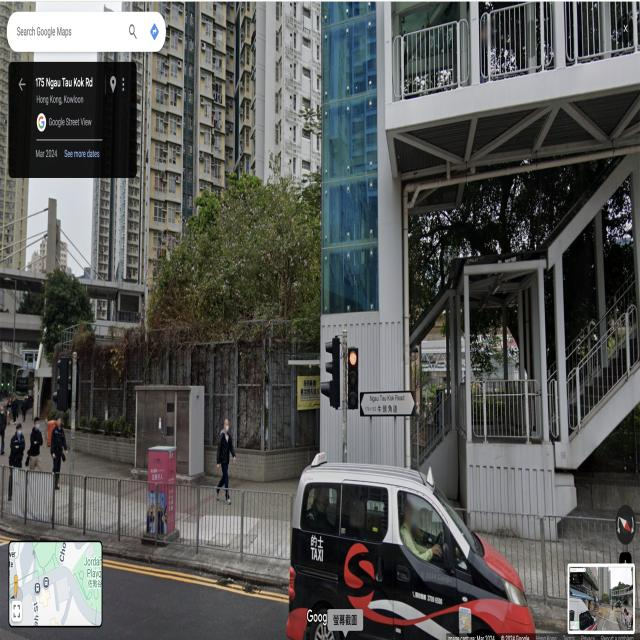Street-Direction-Sign: (360, 392, 415, 416)
